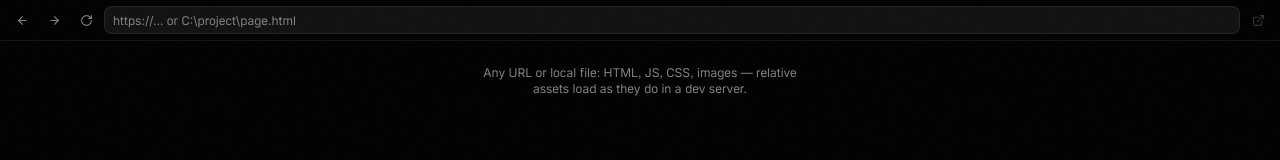
BrowserPanel native webview › shows native validation failures inline without creating an iframe
Step 1. Type "javascript:alert(1)" into the field named "Browser URL" → (672, 20), box [104,6,1240,34]
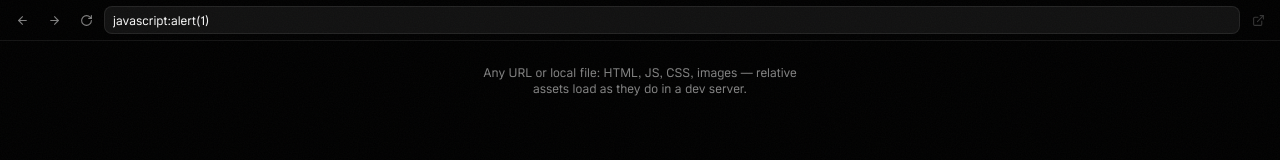
Step 2. Submit the form named "Browser URL", box [0,0,1279,41]
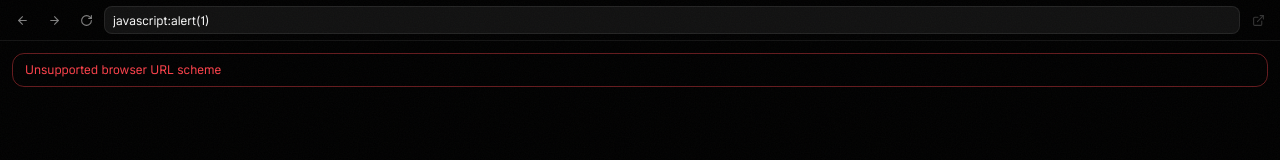
Check: the message reads "Unsupported browser URL scheme", box [25,62,221,77]
